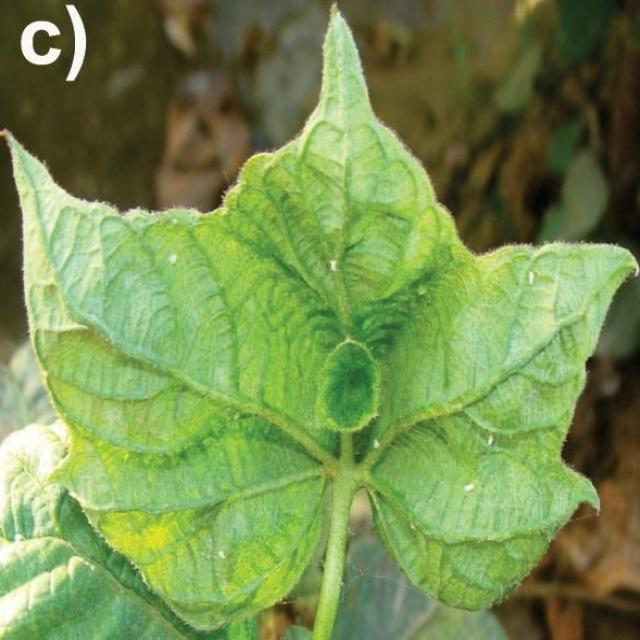Leaf Curl Virus: (12, 81, 600, 613)
